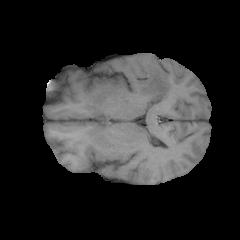glioma: (139, 64, 174, 105)
